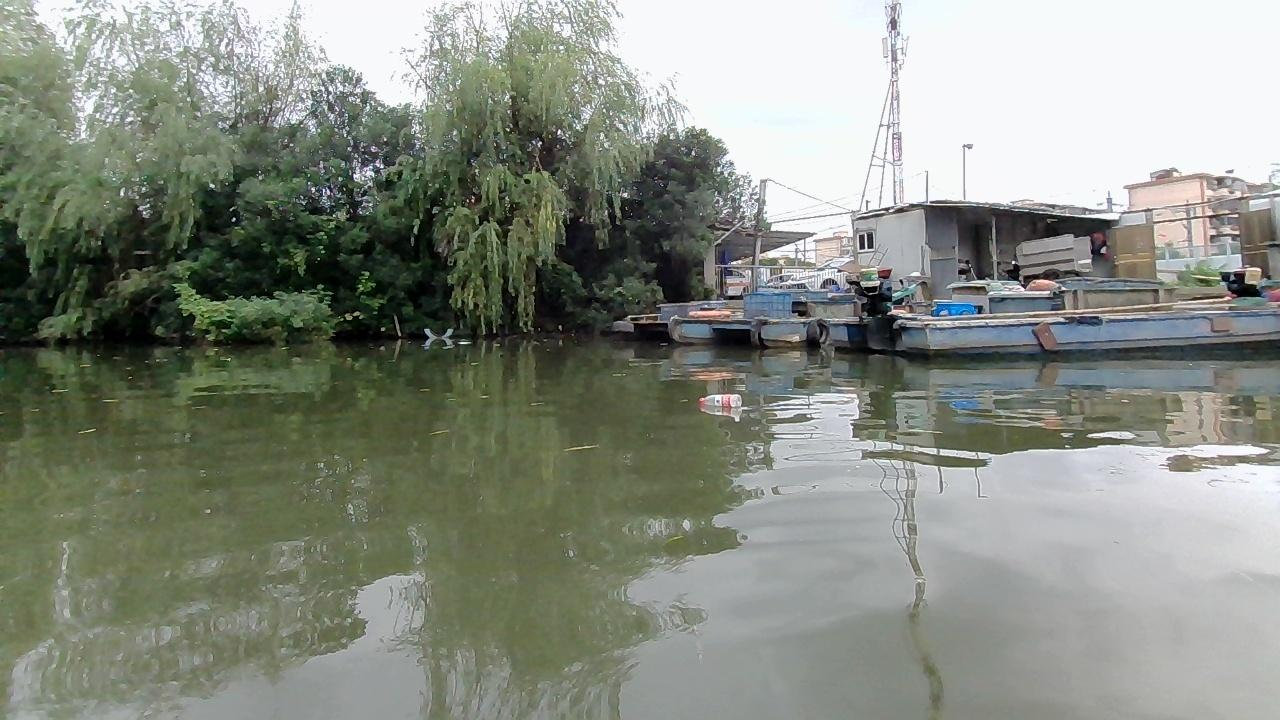bottle: (697, 392, 741, 411)
